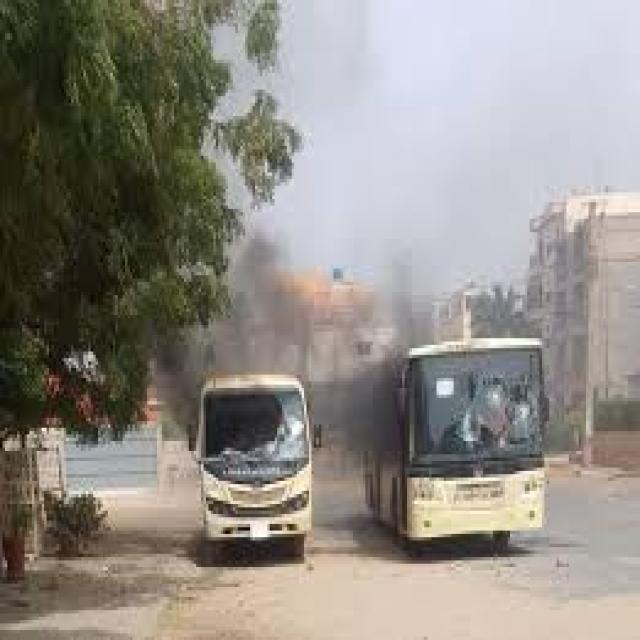bus dem dikk: (365, 341, 545, 552), (201, 376, 313, 561)
